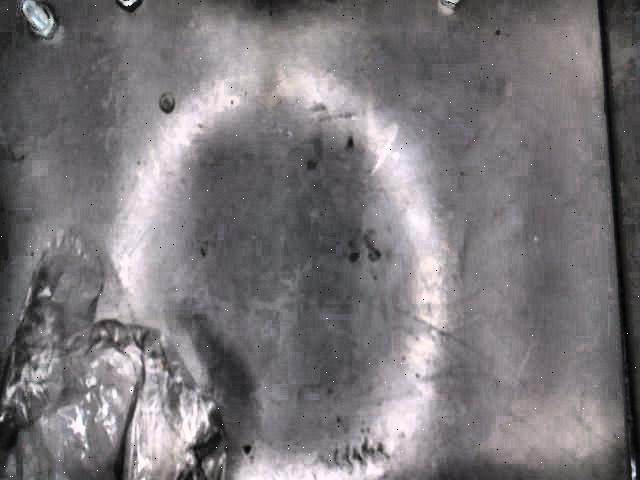Plastic: (0, 225, 226, 480)
